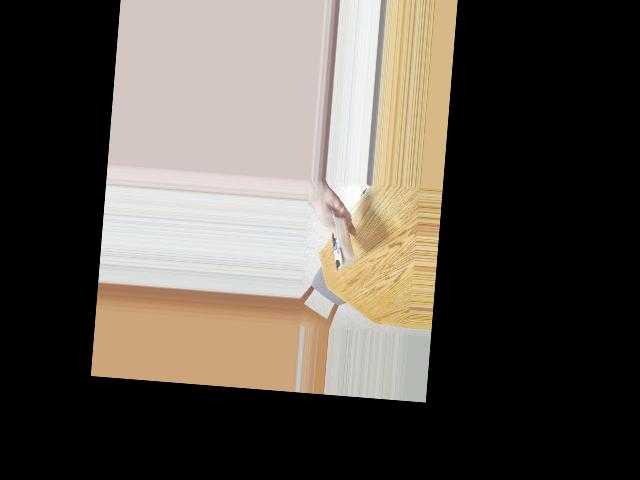cheese: (316, 214, 364, 269)
